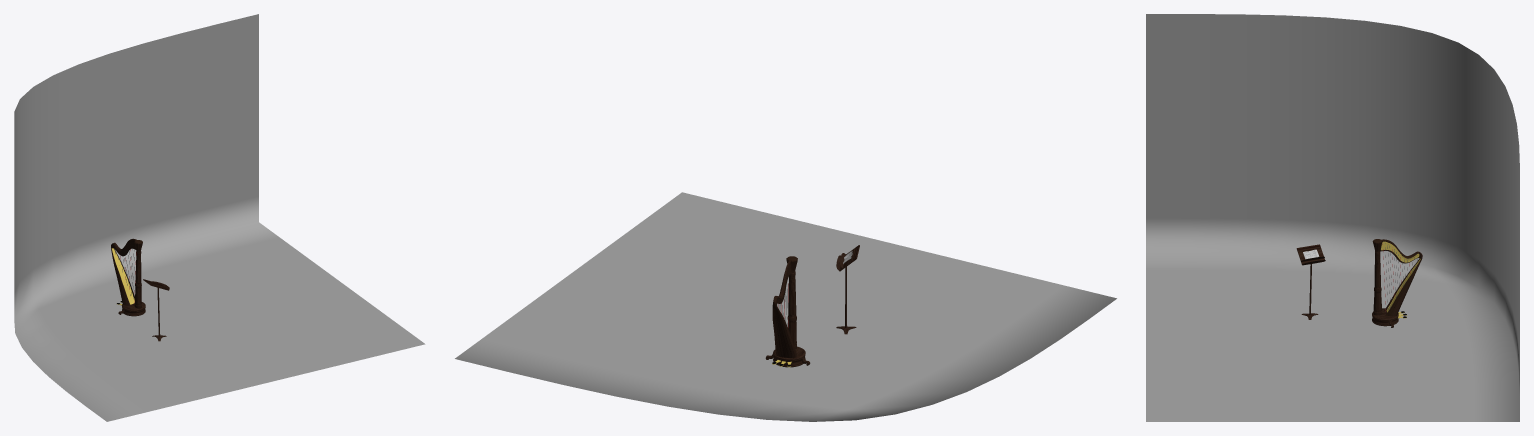
Rendered from school_project__harp.glb.
3 views of the same model, side by side, from view 1: azimuth 30°, elevation 25°; view 2: azimuth 150°, elevation 25°; view 3: azimuth 270°, elevation 25° (orthographic). The views are drawn at different scales.
Visible parts, largest first — view 1: Object_14, Object_4; view 2: Object_14, Object_4; view 3: Object_14, Object_4, Object_3.
Part boxes in pixels (left/top/right/bottom): Object_14: left=14, top=14, right=425, bottom=421; Object_4: left=111, top=238, right=169, bottom=341; Object_14: left=455, top=192, right=1116, bottom=421; Object_4: left=765, top=245, right=859, bottom=367; Object_14: left=1146, top=14, right=1519, bottom=421; Object_4: left=1296, top=239, right=1422, bottom=327; Object_3: left=1381, top=241, right=1420, bottom=312.
Size of the model in its own units: 8.15 by 5.1 by 7.38.
Materials: 12 (2 with a texture image).
